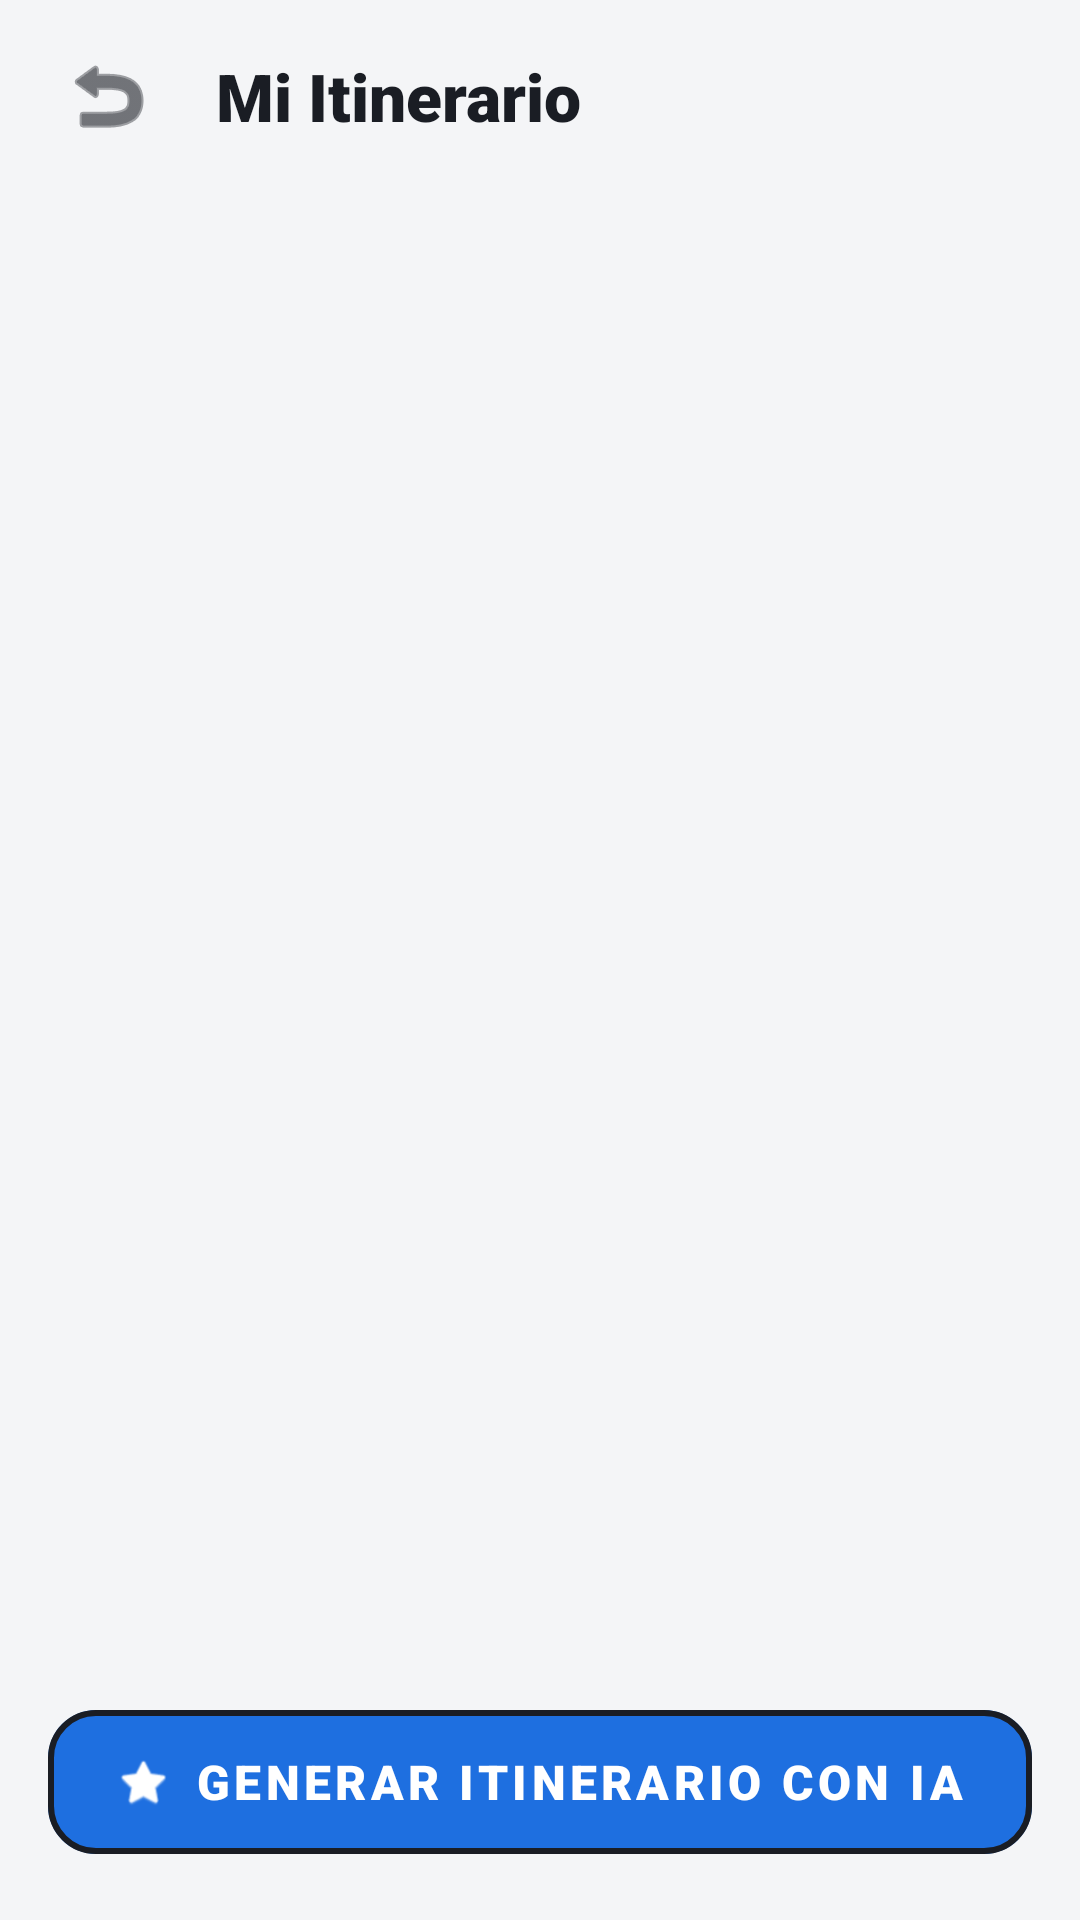

Named icons in this screenshot (1080×1920) and their centers, point (x, y):
revert: point (109, 96)
